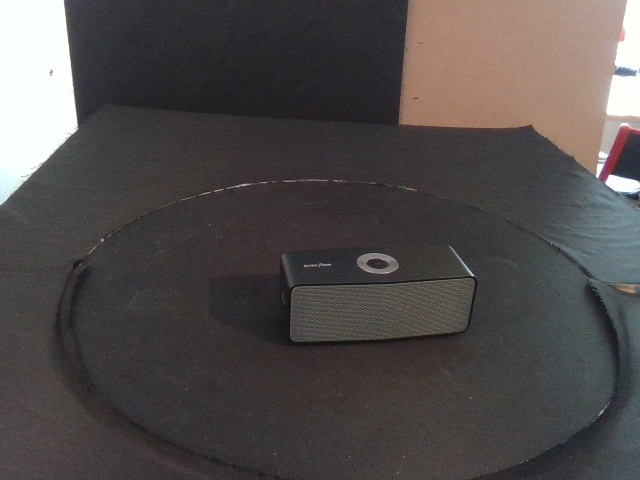speaker: (278, 244, 478, 347)
